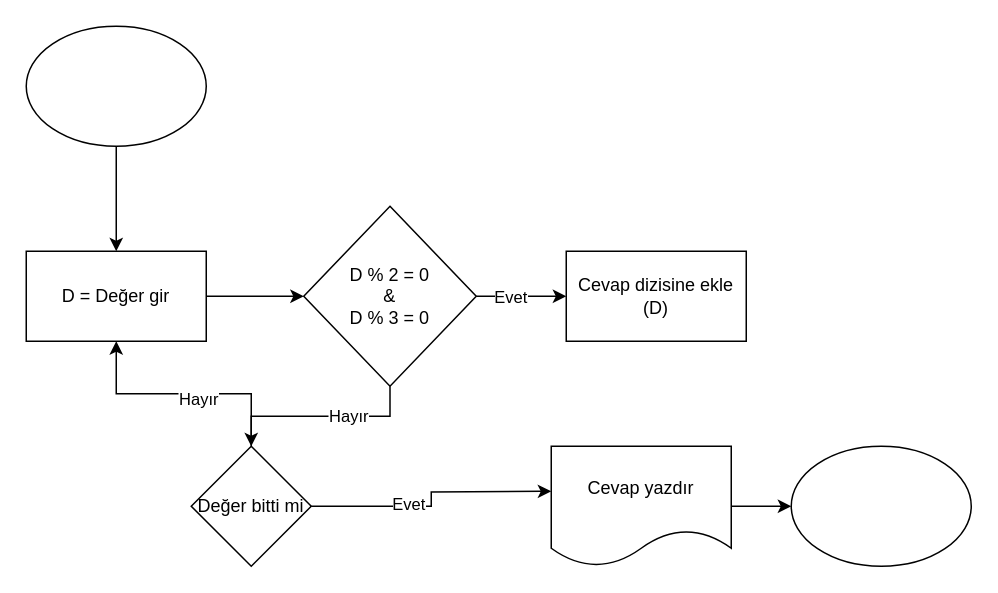
This 998x593 diagram has some shape labels left out. Here are the shapes that lost their labels. From the top down, the centre of each, then its label:
At point (115, 85): "Başla".
At point (880, 505): "Dur".
